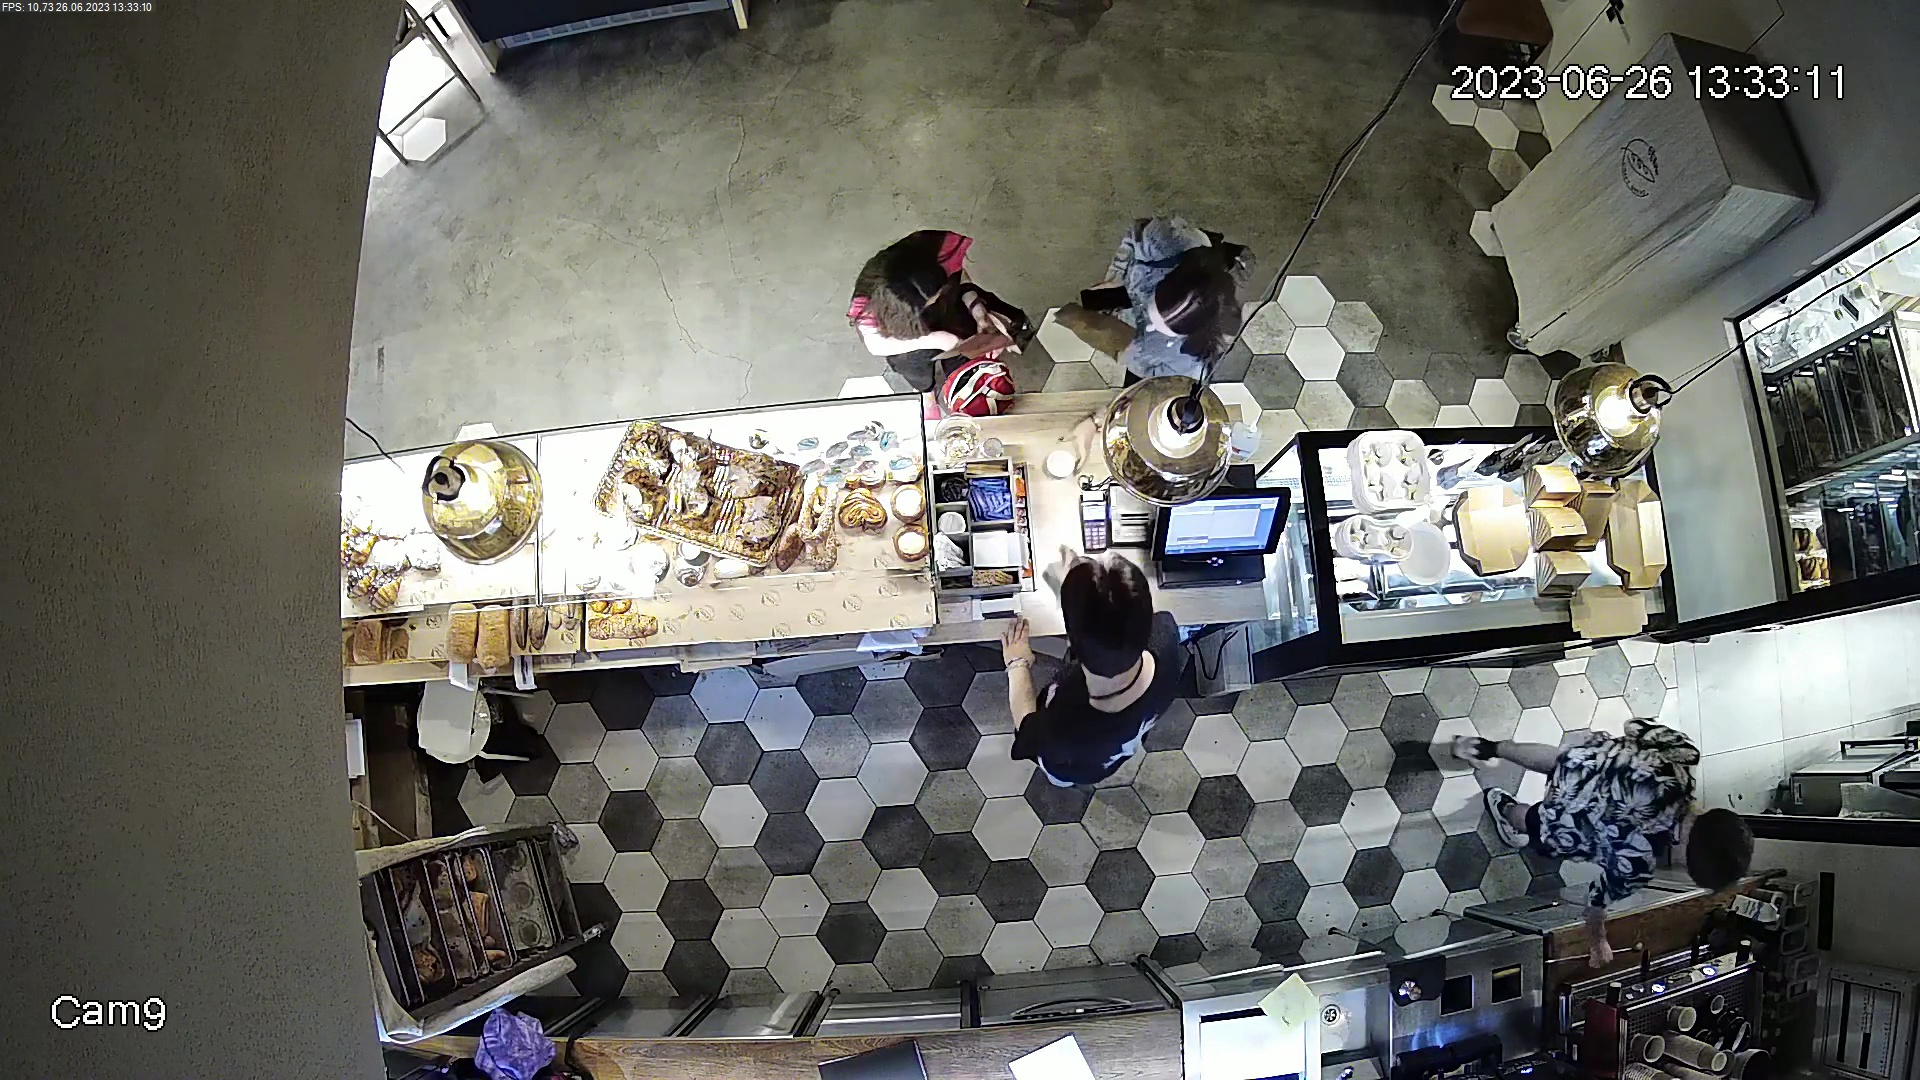coffee: (1040, 446, 1079, 479)
